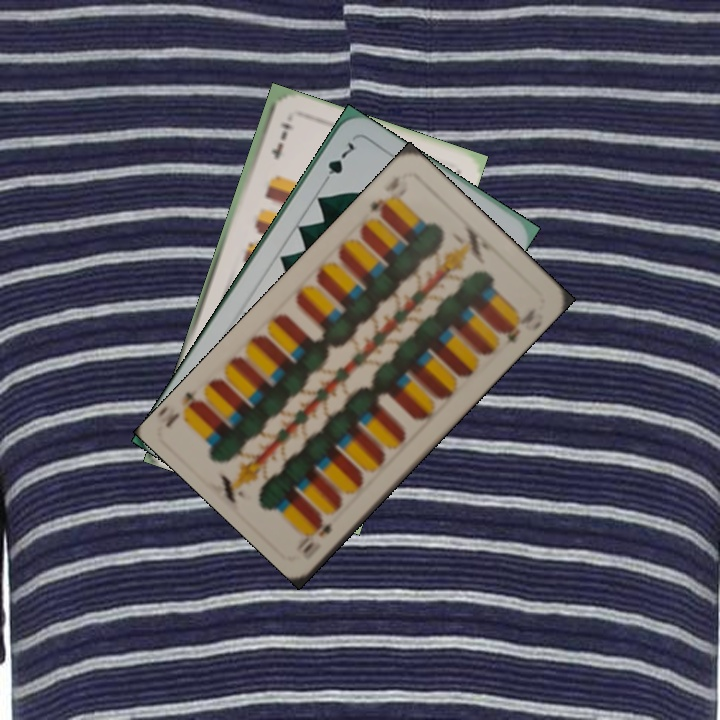E10: (293, 515, 334, 557), (366, 188, 395, 220)
E7: (267, 118, 293, 161)
G7: (318, 137, 357, 189)
